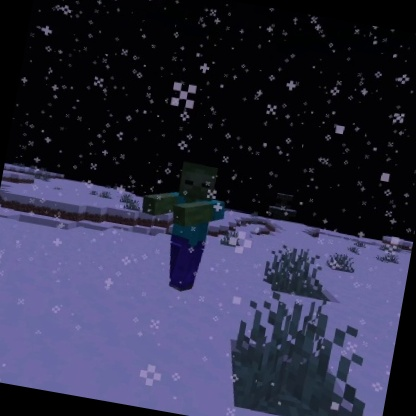zombie: (124, 152, 236, 299)
